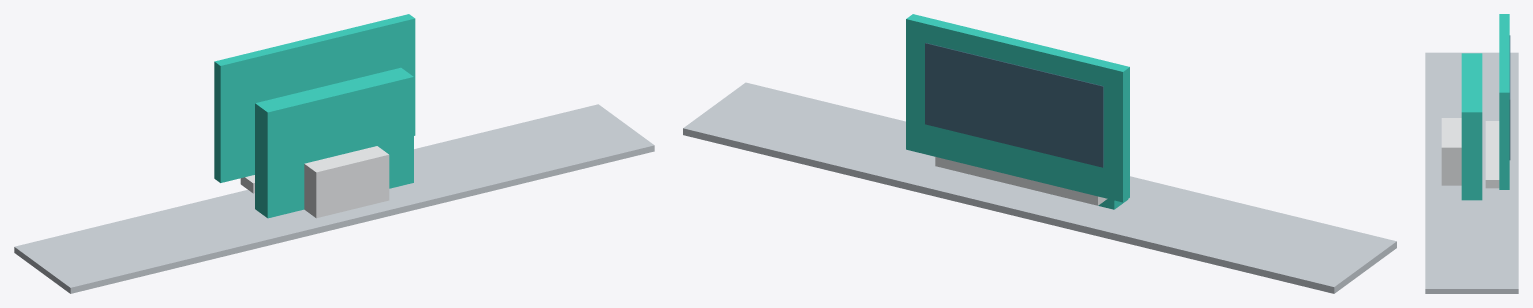
3 views of the same model, side by side, from view 1: azimuth 30°, elevation 25°; view 2: azimuth 150°, elevation 25°; view 3: azimuth 270°, elevation 25° (orthographic). The views are drawn at different scales.
Parts seen in each view (by area): view 1: Exhibition Booth Concept; view 2: Exhibition Booth Concept; view 3: Exhibition Booth Concept.
Part boxes in pixels (box(x1,y1,x2,y2)): Exhibition Booth Concept: box(14, 14, 654, 293); Exhibition Booth Concept: box(683, 14, 1396, 293); Exhibition Booth Concept: box(1425, 14, 1518, 293).
Bounding box in the file's own units: 12 × 2.9 × 2.
